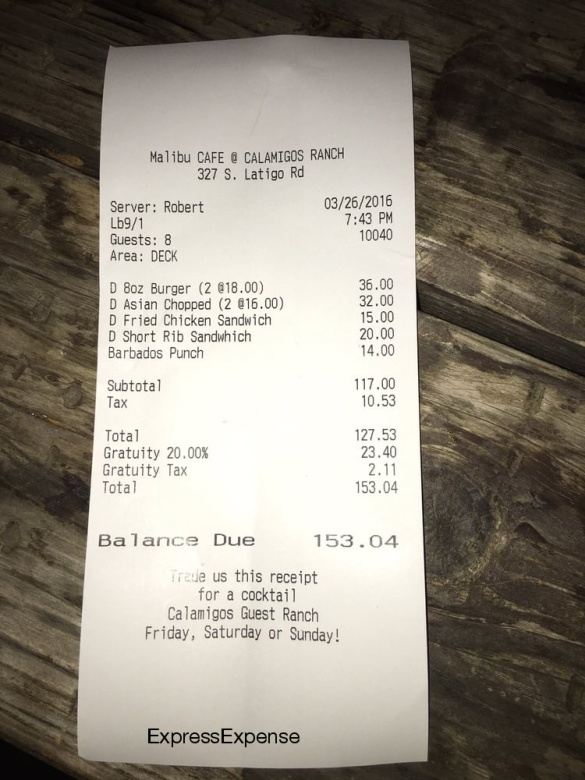Additional details: (131, 564, 349, 653)
Purchase summary: (95, 193, 420, 558)
Receipt: (77, 38, 431, 760)
Shop details: (135, 138, 361, 186)
